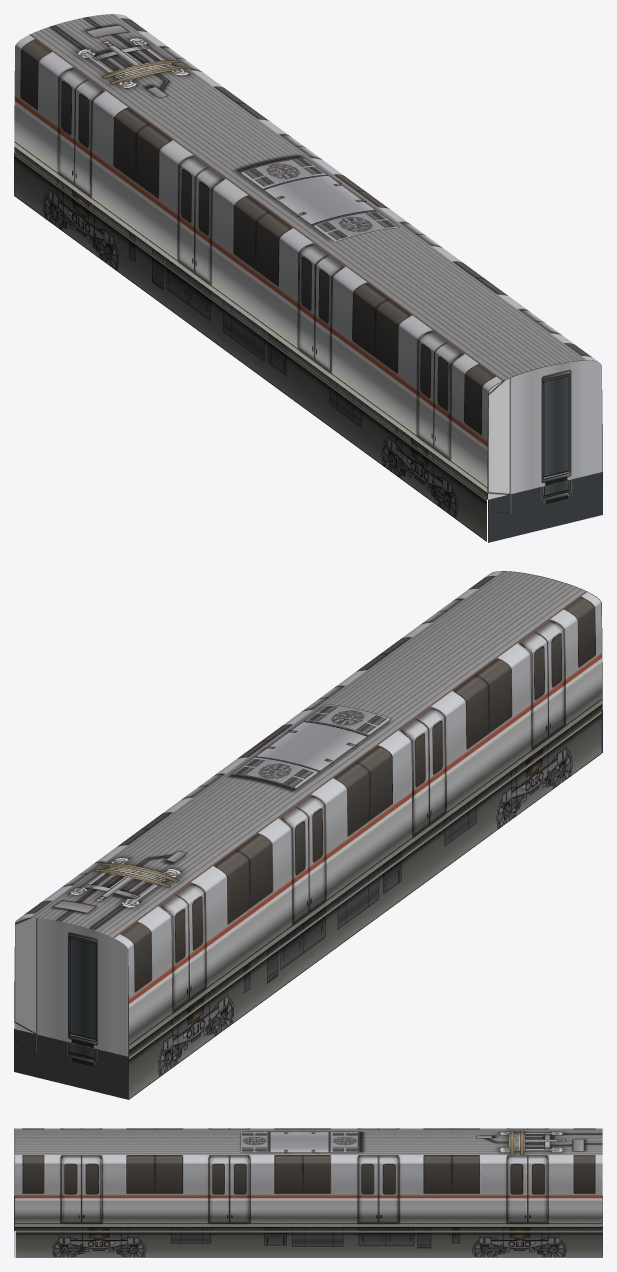
Rendered from car9.glb.
The picture shows the model from 3 angles, top to bottom: view 1: azimuth 30°, elevation 25°; view 2: azimuth 150°, elevation 25°; view 3: azimuth 270°, elevation 25°; orthographic projection. The views are drawn at different scales.
Visible parts, largest first — view 1: tokyometro-10000-car9; view 2: tokyometro-10000-car9; view 3: tokyometro-10000-car9.
Boxes of the visible parts, x1=… form: tokyometro-10000-car9: x1=14, y1=14, x2=602, y2=542; tokyometro-10000-car9: x1=14, y1=571, x2=602, y2=1099; tokyometro-10000-car9: x1=14, y1=1128, x2=602, y2=1257.
Size of the model in its own units: 2.8 by 3.77 by 20.03.
Materials: 8 (7 with a texture image).
